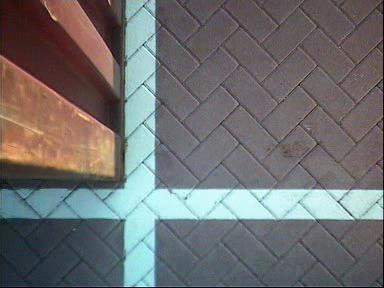groundmarker_2: (185, 161, 223, 213)
